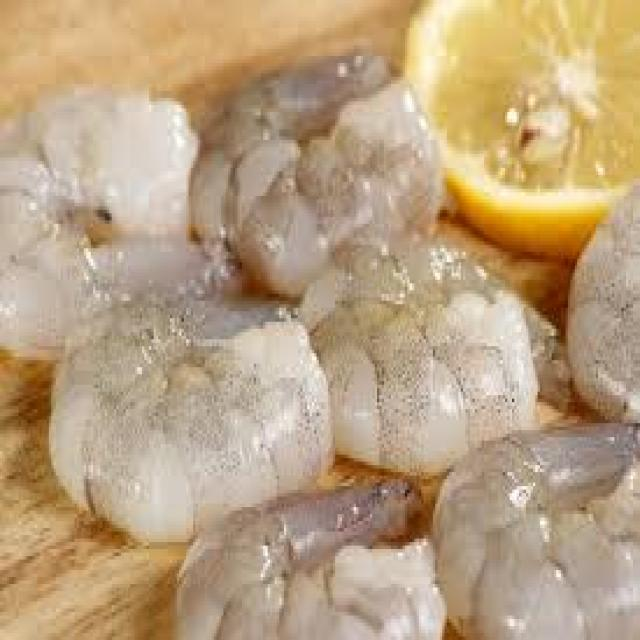Spinach bagged/loose: (50, 300, 314, 498), (442, 426, 640, 640), (196, 51, 411, 242), (0, 90, 197, 296), (326, 236, 530, 427), (172, 495, 432, 640)
